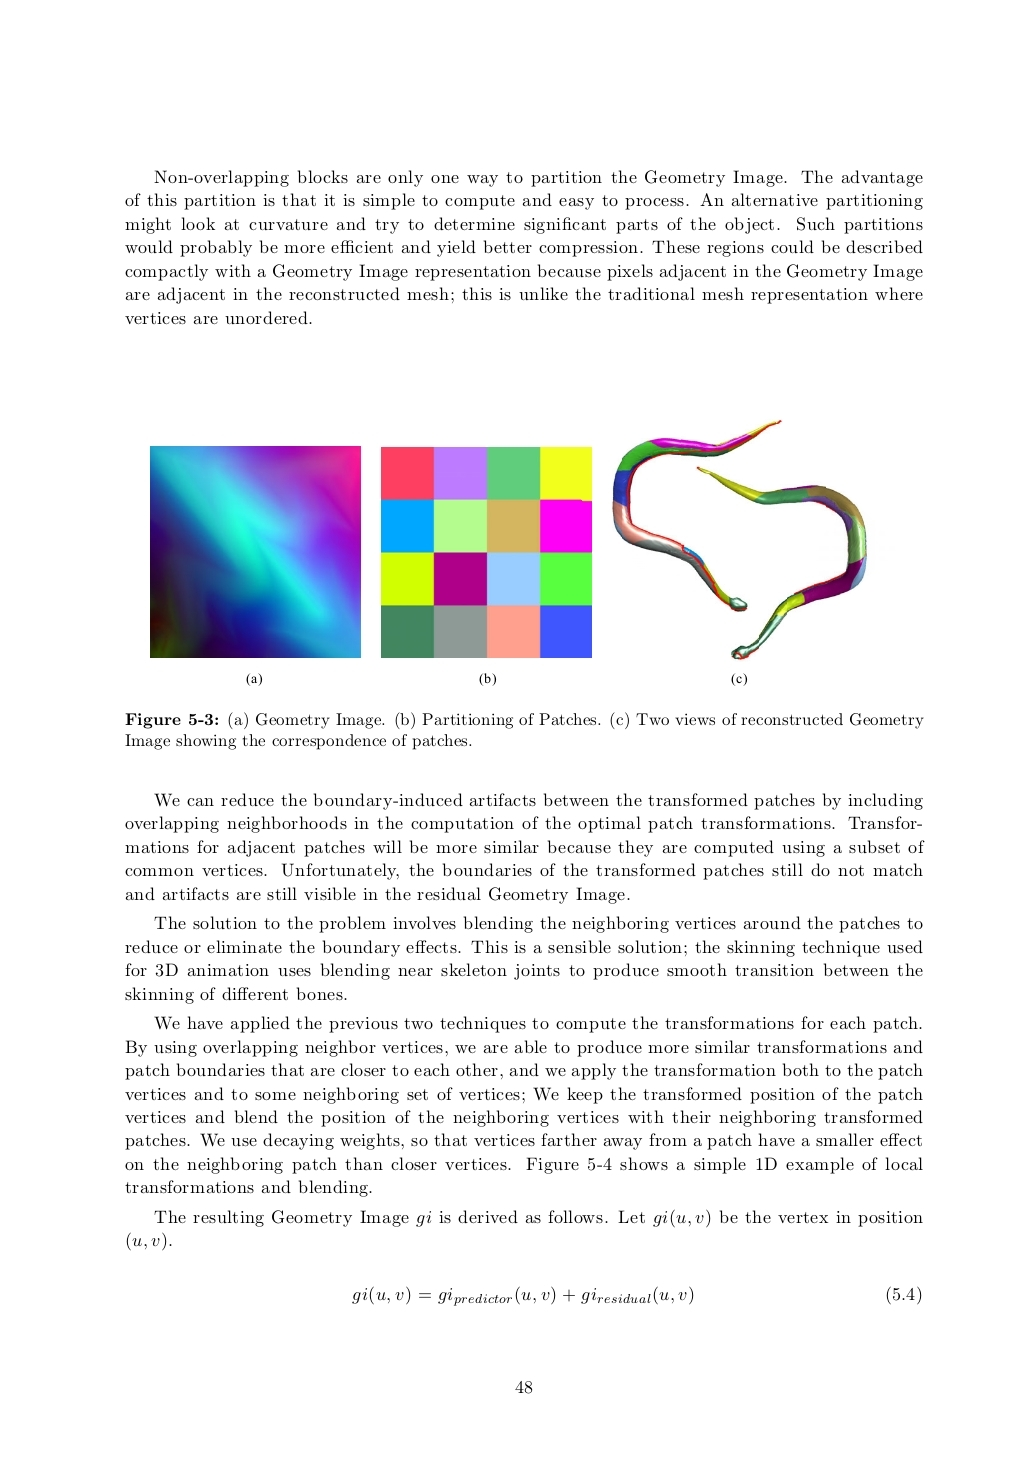figure: (615, 421, 866, 675), (380, 446, 592, 657), (150, 446, 360, 657)
formula: (351, 1285, 921, 1306)
